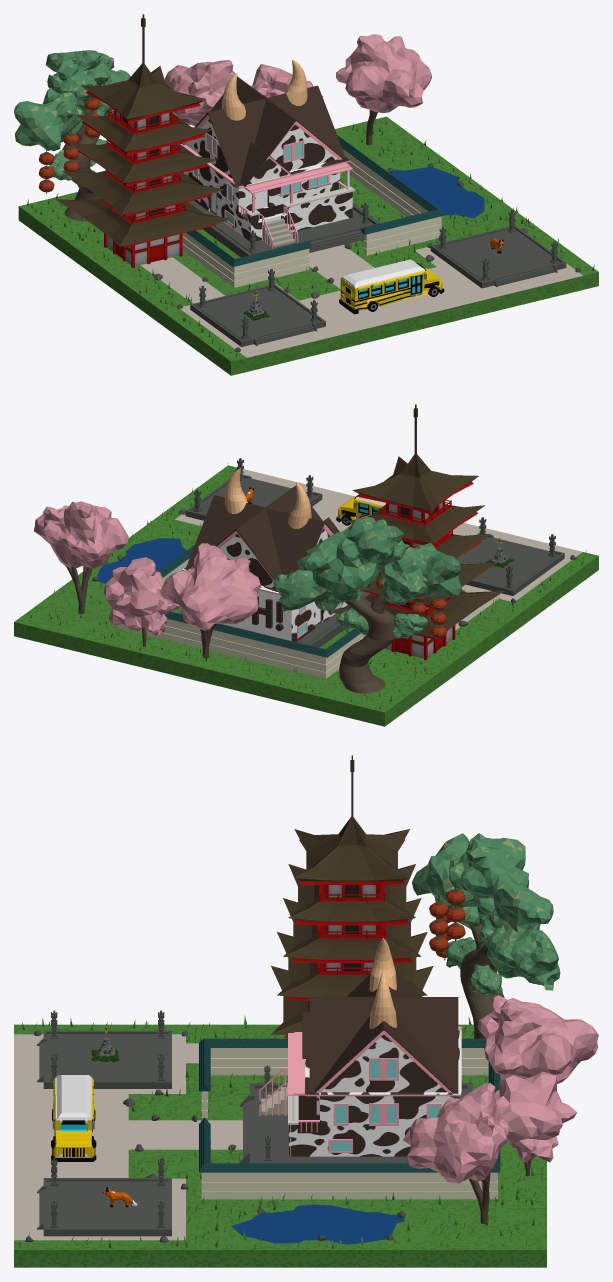
The picture shows the model from 3 angles, top to bottom: view 1: azimuth 30°, elevation 25°; view 2: azimuth 150°, elevation 25°; view 3: azimuth 270°, elevation 25°; orthographic projection. The views are drawn at different scales.
Visible parts, largest first — view 1: Cube.005, Cube.1242, VEHICLES_SCHOOL_BUS; view 2: Cube.005, Cube.1242, VEHICLES_SCHOOL_BUS; view 3: Cube.005, Cube.1242, VEHICLES_SCHOOL_BUS.
Boxes of the visible parts, x1,y1,x2,y2 form: Cube.005: (14, 14, 598, 375); Cube.1242: (179, 59, 355, 248); VEHICLES_SCHOOL_BUS: (339, 259, 444, 314); Cube.005: (14, 404, 598, 726); Cube.1242: (181, 468, 347, 642); VEHICLES_SCHOOL_BUS: (336, 494, 385, 525); Cube.005: (14, 755, 598, 1267); Cube.1242: (259, 938, 461, 1156); VEHICLES_SCHOOL_BUS: (51, 1075, 96, 1161).
Size of the model in its own units: 4528 by 2668 by 4389.
Materials: 52 (5 with a texture image).
